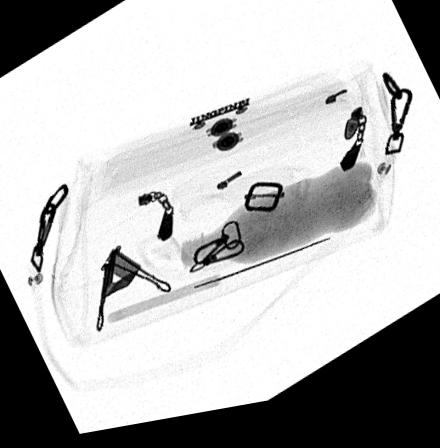Knife: (106, 247, 331, 327)
